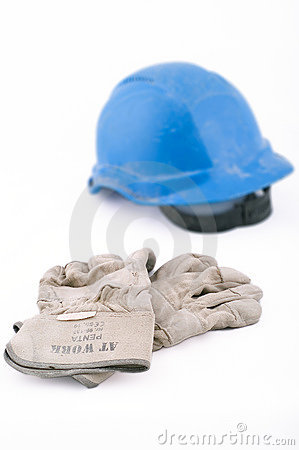helmet: (96, 47, 274, 175)
